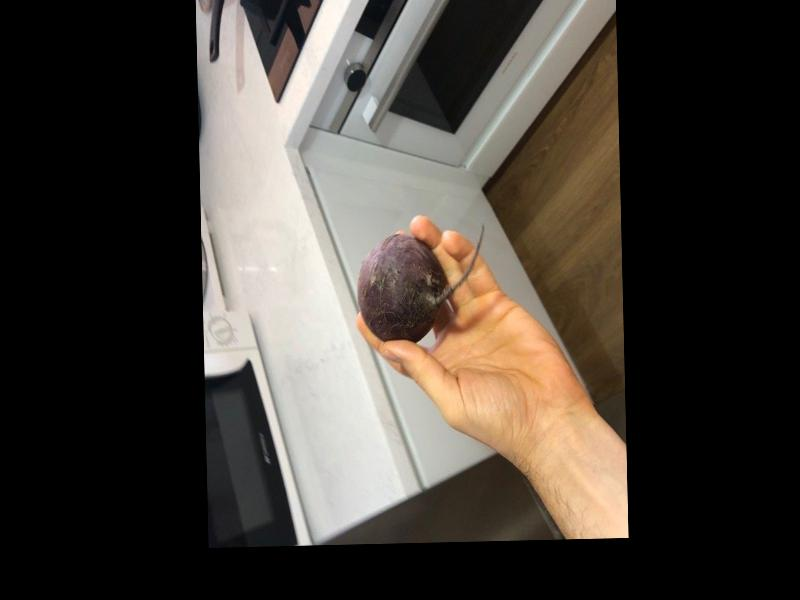Beet: (355, 221, 487, 343)
